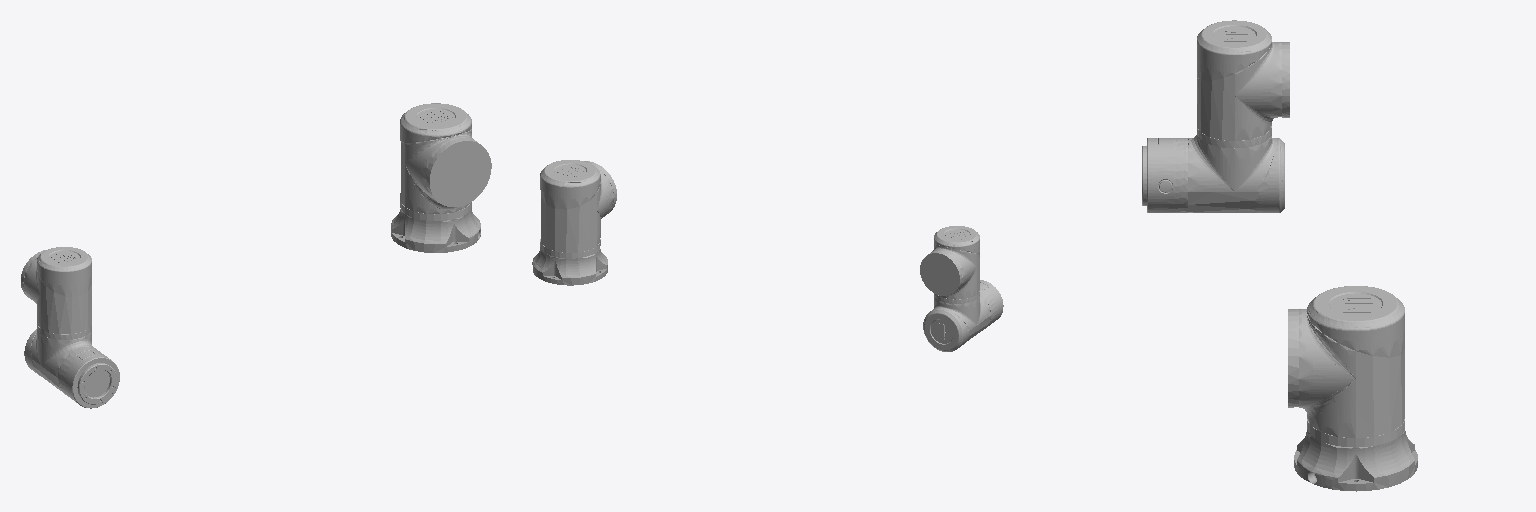
URDF robot description (iimt5):
<?xml version="1.0" encoding="utf-8"?>
<!-- This URDF was automatically created by SolidWorks to URDF Exporter! Originally created by Stephen Brawner (brawner@gmail.com) 
     Commit Version: 1.6.0-4-g7f85cfe  Build Version: 1.6.7995.38578
     For more information, please see http://wiki.ros.org/sw_urdf_exporter -->
<robot
  name="iimt5">
  <link
    name="base_link">
    <inertial>
      <origin
        xyz="-0.00059464 -0.00060418 0.020571"
        rpy="0 0 0" />
      <mass
        value="1.1424" />
      <inertia
        ixx="0.0019632"
        ixy="2.3301E-05"
        ixz="-8.7193E-06"
        iyy="0.0019628"
        iyz="-8.9679E-06"
        izz="0.0033635" />
    </inertial>
    <visual>
      <origin
        xyz="0 0 0"
        rpy="0 0 0" />
      <geometry>
        <mesh
          filename="package://iimt_ros2_description/meshes/iimt5/visual/base_link.dae" />
      </geometry>
      <material
        name="">
        <color
          rgba="0.69804 0.69804 0.69804 1" />
      </material>
    </visual>
    <collision>
      <origin
        xyz="0 0 0"
        rpy="0 0 0" />
      <geometry>
        <mesh
          filename="package://iimt_ros2_description/meshes/iimt5/collision/base_link.stl" />
      </geometry>
    </collision>
  </link>
  <link
    name="shoulder_link">
    <inertial>
      <origin
        xyz="0.00023806 -0.0054616 -0.027849"
        rpy="0 0 0" />
      <mass
        value="4.7527" />
      <inertia
        ixx="0.0043887"
        ixy="-8.5565E-06"
        ixz="-8.1251E-06"
        iyy="0.0043683"
        iyz="0.00023986"
        izz="0.0061208" />
    </inertial>
    <visual>
      <origin
        xyz="0 0 0"
        rpy="0 0 0" />
      <geometry>
        <mesh
          filename="package://iimt_ros2_description/meshes/iimt5/visual/shoulder_link.dae" />
      </geometry>
      <material
        name="">
        <color
          rgba="0.75294 0.75294 0.75294 1" />
      </material>
    </visual>
    <collision>
      <origin
        xyz="0 0 0"
        rpy="0 0 0" />
      <geometry>
        <mesh
          filename="package://iimt_ros2_description/meshes/iimt5/collision/shoulder_link.stl" />
      </geometry>
    </collision>
  </link>
  <joint
    name="shoulder_joint"
    type="revolute">
    <origin
      xyz="0 0 0.139"
      rpy="0 0 0" />
    <parent
      link="base_link" />
    <child
      link="shoulder_link" />
    <axis
      xyz="0 0 1" />
    <limit
      lower="-6.2832"
      upper="6.2832"
      effort="130"
      velocity="3.14" />
  </joint>
  <link
    name="upper_arm_link">
    <inertial>
      <origin
        xyz="-0.16754 -1.0507E-05 0.13275"
        rpy="0 0 0" />
      <mass
        value="9.0173" />
      <inertia
        ixx="0.0082644"
        ixy="5.4662E-06"
        ixz="6.8958E-05"
        iyy="0.015153"
        iyz="-2.8896E-06"
        izz="0.017899" />
    </inertial>
    <visual>
      <origin
        xyz="0 0 0"
        rpy="0 0 0" />
      <geometry>
        <mesh
          filename="package://iimt_ros2_description/meshes/iimt5/visual/upper_arm_link.dae" />
      </geometry>
      <material
        name="">
        <color
          rgba="0.75294 0.75294 0.75294 1" />
      </material>
    </visual>
    <collision>
      <origin
        xyz="0 0 0"
        rpy="0 0 0" />
      <geometry>
        <mesh
          filename="package://iimt_ros2_description/meshes/iimt5/collision/upper_arm_link.stl" />
      </geometry>
    </collision>
  </link>
  <joint
    name="upper_arm_joint"
    type="revolute">
    <origin
      xyz="0 0 0"
      rpy="1.5708 0 0" />
    <parent
      link="shoulder_link" />
    <child
      link="upper_arm_link" />
    <axis
      xyz="0 0 1" />
    <limit
      lower="-2.6167"
      upper="2.6167"
      effort="156"
      velocity="2.6167" />
  </joint>
  <link
    name="forearm_link">
    <inertial>
      <origin
        xyz="-0.26237 -0.00025322 0.032714"
        rpy="0 0 0" />
      <mass
        value="3.2477" />
      <inertia
        ixx="0.0030652"
        ixy="-8.0411E-07"
        ixz="-0.0014119"
        iyy="0.018146"
        iyz="-4.9842E-06"
        izz="0.018357" />
    </inertial>
    <visual>
      <origin
        xyz="0 0 0"
        rpy="0 0 0" />
      <geometry>
        <mesh
          filename="package://iimt_ros2_description/meshes/iimt5/visual/fore_arm_link.dae" />
      </geometry>
      <material
        name="">
        <color
          rgba="0.69804 0.69804 0.69804 1" />
      </material>
    </visual>
    <collision>
      <origin
        xyz="0 0 0"
        rpy="0 0 0" />
      <geometry>
        <mesh
          filename="package://iimt_ros2_description/meshes/iimt5/collision/fore_arm_link.stl" />
      </geometry>
    </collision>
  </link>
  <joint
    name="forearm_joint"
    type="revolute">
    <origin
      xyz="-0.3945 0 0"
      rpy="0 0 0" />
    <parent
      link="upper_arm_link" />
    <child
      link="forearm_link" />
    <axis
      xyz="0 0 1" />
    <limit
      lower="-2.8783"
      upper="2.8783"
      effort="95"
      velocity="3.14" />
  </joint>
  <link
    name="wrist_1_link">
    <inertial>
      <origin
        xyz="-0.00045661 -0.018467 -0.0060117"
        rpy="0 0 0" />
      <mass
        value="1.7863" />
      <inertia
        ixx="0.0011898"
        ixy="5.178E-06"
        ixz="2.3072E-06"
        iyy="0.0015106"
        iyz="0.00010468"
        izz="0.0011292" />
    </inertial>
    <visual>
      <origin
        xyz="0 0 0"
        rpy="0 0 0" />
      <geometry>
        <mesh
          filename="package://iimt_ros2_description/meshes/iimt5/visual/wrist_1_link.dae" />
      </geometry>
      <material
        name="">
        <color
          rgba="0.75294 0.75294 0.75294 1" />
      </material>
    </visual>
    <collision>
      <origin
        xyz="0 0 0"
        rpy="0 0 0" />
      <geometry>
        <mesh
          filename="package://iimt_ros2_description/meshes/iimt5/collision/wrist_1_link.stl" />
      </geometry>
    </collision>
  </link>
  <joint
    name="wrist_1_joint"
    type="revolute">
    <origin
      xyz="-0.381 0 0.143"
      rpy="0 0 0" />
    <parent
      link="forearm_link" />
    <child
      link="wrist_1_link" />
    <axis
      xyz="0 0 1" />
    <limit
      lower="-3.0528"
      upper="3.0528"
      effort="35"
      velocity="3.14" />
  </joint>
  <link
    name="wrist_2_link">
    <inertial>
      <origin
        xyz="0.00045661 0.018467 -0.0060117"
        rpy="0 0 0" />
      <mass
        value="1.7863" />
      <inertia
        ixx="0.0011898"
        ixy="5.178E-06"
        ixz="-2.3072E-06"
        iyy="0.0015106"
        iyz="-0.00010468"
        izz="0.0011292" />
    </inertial>
    <visual>
      <origin
        xyz="0 0 0"
        rpy="0 0 0" />
      <geometry>
        <mesh
          filename="package://iimt_ros2_description/meshes/iimt5/visual/wrist_2_link.dae" />
      </geometry>
      <material
        name="">
        <color
          rgba="0.75294 0.75294 0.75294 1" />
      </material>
    </visual>
    <collision>
      <origin
        xyz="0 0 0"
        rpy="0 0 0" />
      <geometry>
        <mesh
          filename="package://iimt_ros2_description/meshes/iimt5/collision/wrist_2_link.stl" />
      </geometry>
    </collision>
  </link>
  <joint
    name="wrist_2_joint"
    type="revolute">
    <origin
      xyz="0 -0.1245 0"
      rpy="1.5708 0 0" />
    <parent
      link="wrist_1_link" />
    <child
      link="wrist_2_link" />
    <axis
      xyz="0 0 1" />
    <limit
      lower="-3.0528"
      upper="3.0528"
      effort="35"
      velocity="3.14" />
  </joint>
  <link
    name="wrist_3_link">
    <inertial>
      <origin
        xyz="-2.766E-05 2.1119E-05 -0.01581"
        rpy="0 0 0" />
      <mass
        value="0.42423" />
      <inertia
        ixx="0.00031444"
        ixy="1.1817E-07"
        ixz="8.2188E-09"
        iyy="0.00029777"
        iyz="-4.0228E-08"
        izz="0.00049472" />
    </inertial>
    <visual>
      <origin
        xyz="0 0 0"
        rpy="0 0 0" />
      <geometry>
        <mesh
          filename="package://iimt_ros2_description/meshes/iimt5/visual/wrist_3_link.dae" />
      </geometry>
      <material
        name="">
        <color
          rgba="0.75294 0.75294 0.75294 1" />
      </material>
    </visual>
    <collision>
      <origin
        xyz="0 0 0"
        rpy="0 0 0" />
      <geometry>
        <mesh
          filename="package://iimt_ros2_description/meshes/iimt5/collision/wrist_3_link.stl" />
      </geometry>
    </collision>
  </link>
  <joint
    name="wrist_3_joint"
    type="revolute">
    <origin
      xyz="0 0.103 0"
      rpy="-1.5708 0 0" />
    <parent
      link="wrist_2_link" />
    <child
      link="wrist_3_link" />
    <axis
      xyz="0 0 -1" />
    <limit
      lower="-6.2832"
      upper="6.2832"
      effort="35"
      velocity="3.14" />
  </joint>
</robot>

--- Facts derived from the render (not from the file) ---
The picture shows the robot from 3 angles, left to right: view 1: azimuth 30°, elevation 25°; view 2: azimuth 150°, elevation 25°; view 3: azimuth 270°, elevation 25°; orthographic projection.
Robot: iimt5 — 7 links, 6 joints (6 revolute); root link base_link; default pose: every joint at zero.
Links seen in each view (by area): view 1: shoulder_link, wrist_1_link, base_link, wrist_3_link, wrist_2_link; view 2: shoulder_link, wrist_1_link, wrist_2_link, base_link, wrist_3_link; view 3: shoulder_link, wrist_1_link, wrist_2_link, base_link, wrist_3_link.
Boxes of the visible links, left/top/right/bottom form: shoulder_link: left=400, top=103, right=491, bottom=220; wrist_1_link: left=21, top=247, right=91, bottom=339; base_link: left=391, top=208, right=480, bottom=252; wrist_3_link: left=59, top=348, right=119, bottom=408; wrist_2_link: left=24, top=329, right=95, bottom=393; shoulder_link: left=540, top=160, right=616, bottom=258; wrist_1_link: left=920, top=226, right=979, bottom=303; wrist_2_link: left=923, top=292, right=991, bottom=351; base_link: left=532, top=247, right=607, bottom=285; wrist_3_link: left=980, top=280, right=1003, bottom=325; shoulder_link: left=1288, top=286, right=1404, bottom=447; wrist_1_link: left=1197, top=20, right=1289, bottom=147; wrist_2_link: left=1184, top=135, right=1284, bottom=212; base_link: left=1294, top=430, right=1417, bottom=491; wrist_3_link: left=1142, top=138, right=1183, bottom=212.
Size in the robot's own frame: 0.893 by 0.325 by 0.2402 metres.
Meshes: 7 distinct files referenced, 5 mesh visuals loaded (5 Collada DAE); not drawn: 2 (reference not matched to a file when rendering).
